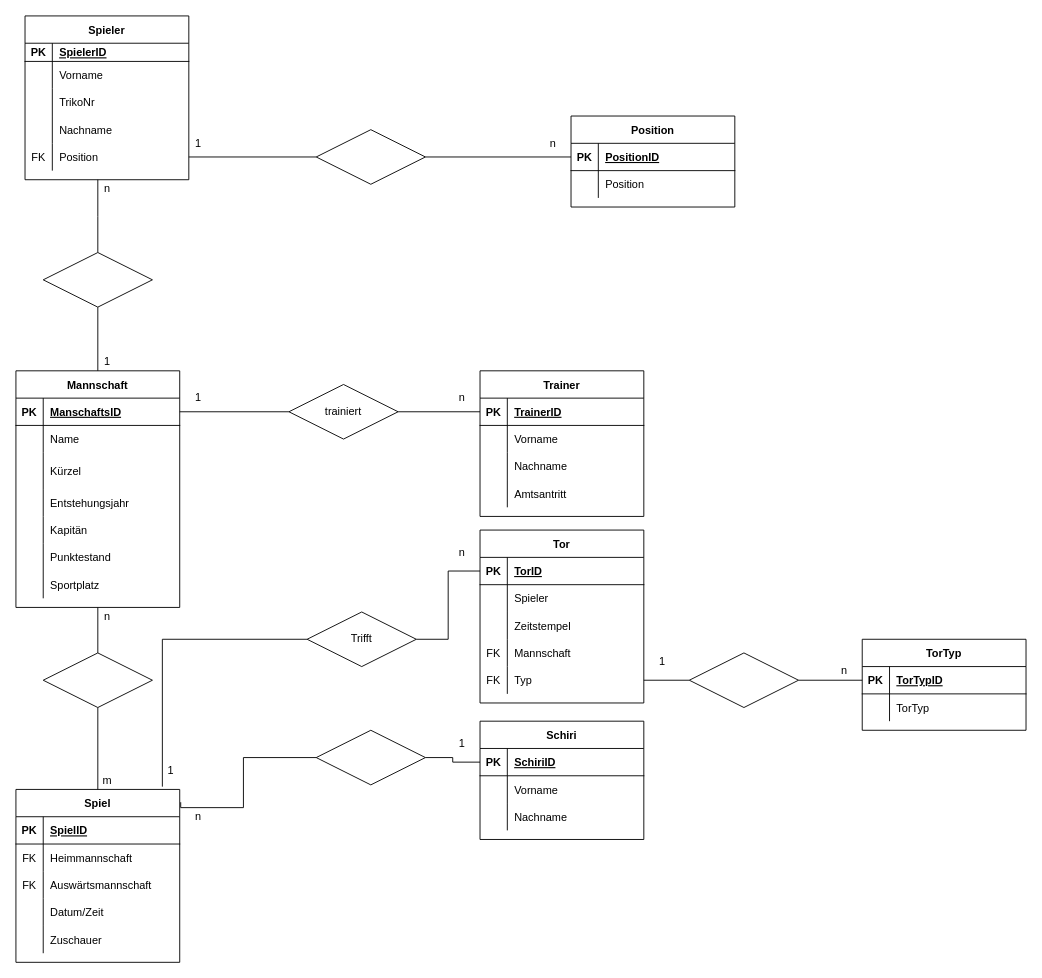
Image size: 1042x978. Some labels were removed from this diagram. The shapes that lost their labels are listed below. From the top down, each one's box as (x1, y1, x2, y2) in pixels, then its label:
(315, 129, 425, 184): spielt auf
(42, 252, 152, 307): spielt für
(42, 652, 152, 708): spielt in
(688, 652, 799, 708): Trefferart
(315, 729, 425, 785): pfeift
